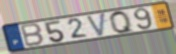2: (67, 17, 89, 41)
5: (43, 19, 66, 43)
9: (132, 7, 153, 31)
B: (20, 22, 46, 48)
Q: (108, 9, 136, 35)
V: (85, 11, 107, 38)
